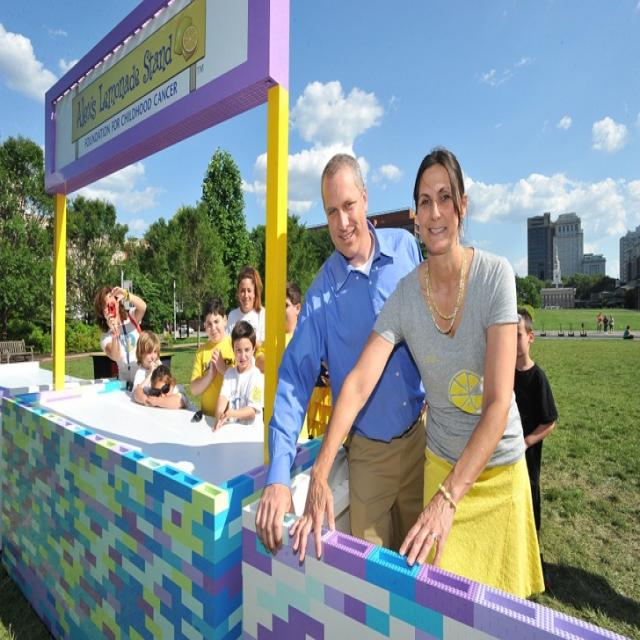body: (287, 142, 548, 602), (256, 148, 440, 564), (512, 306, 559, 543), (189, 296, 239, 420), (213, 317, 265, 434), (93, 284, 148, 384), (256, 282, 303, 376), (224, 264, 266, 353), (133, 362, 202, 415), (130, 329, 163, 401), (622, 324, 634, 339), (596, 310, 603, 334), (603, 314, 609, 334), (608, 314, 614, 334)
